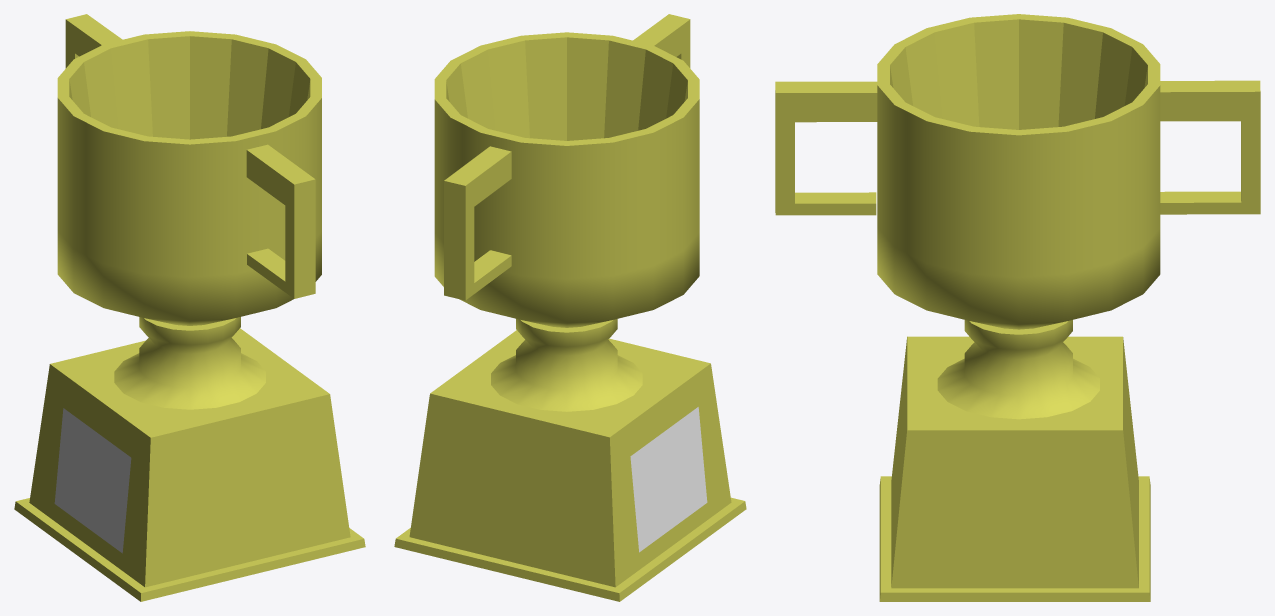
Rendered from Trophy_lowpoly.fbx.
3 views of the same model, side by side, from view 1: azimuth 30°, elevation 25°; view 2: azimuth 150°, elevation 25°; view 3: azimuth 270°, elevation 25° (orthographic). The views are drawn at different scales.
Visible parts, largest first — view 1: Trophy_Lowpoly; view 2: Trophy_Lowpoly; view 3: Trophy_Lowpoly.
Boxes of the visible parts, box(x1,y1,x2,y2) form: Trophy_Lowpoly: box(14, 14, 365, 601); Trophy_Lowpoly: box(394, 14, 746, 601); Trophy_Lowpoly: box(775, 14, 1260, 601).
Bounding box in the file's own units: 22.29 × 40.2 × 37.64.
